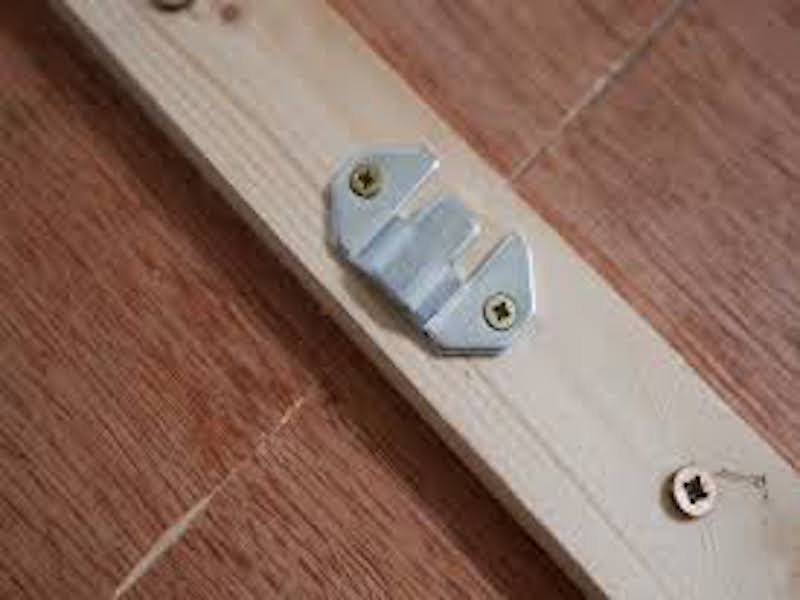screw: (668, 463, 719, 520), (482, 291, 518, 332), (349, 162, 384, 199)
